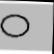no answer: (0, 13, 33, 39)
